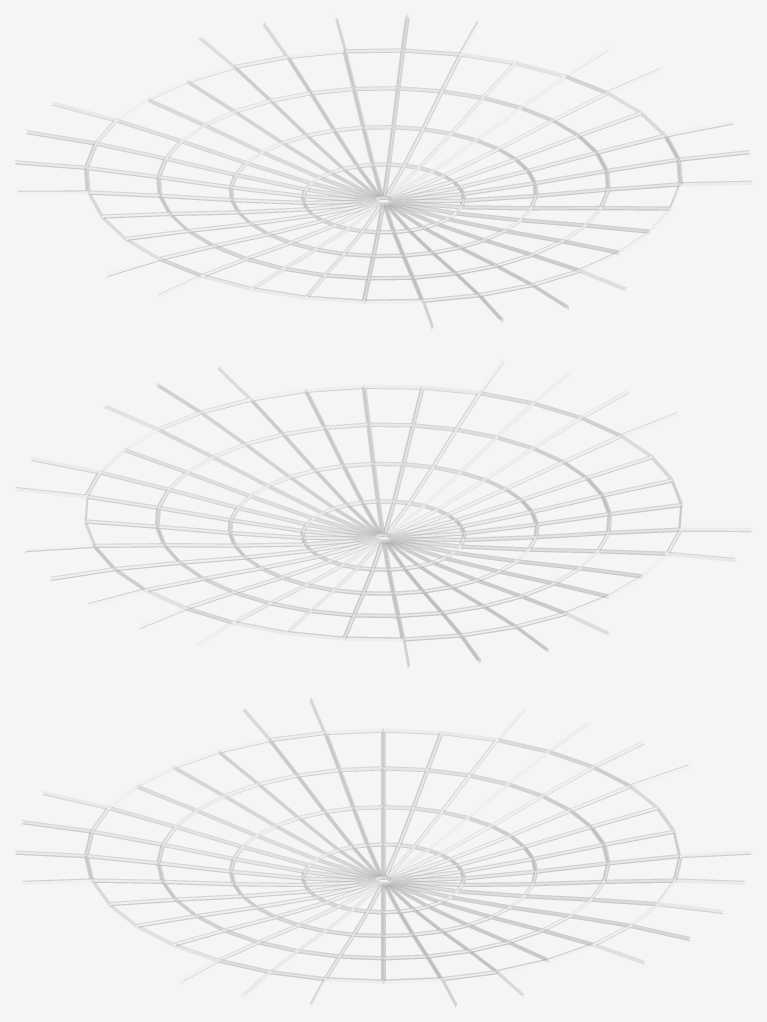
File: teiav1.fbx
3 renders of one model, top to bottom at view 1: azimuth 30°, elevation 25°; view 2: azimuth 150°, elevation 25°; view 3: azimuth 270°, elevation 25°, orthographic.
Visible parts, largest first — view 1: Circle.001; view 2: Circle.001; view 3: Circle.001.
Boxes of the visible parts, left/top/right/bottom form: Circle.001: left=14, top=15, right=752, bottom=328; Circle.001: left=15, top=359, right=751, bottom=667; Circle.001: left=14, top=698, right=752, bottom=1006.
Size of the model in its own units: 0.4019 by 0.0201 by 0.4097.
